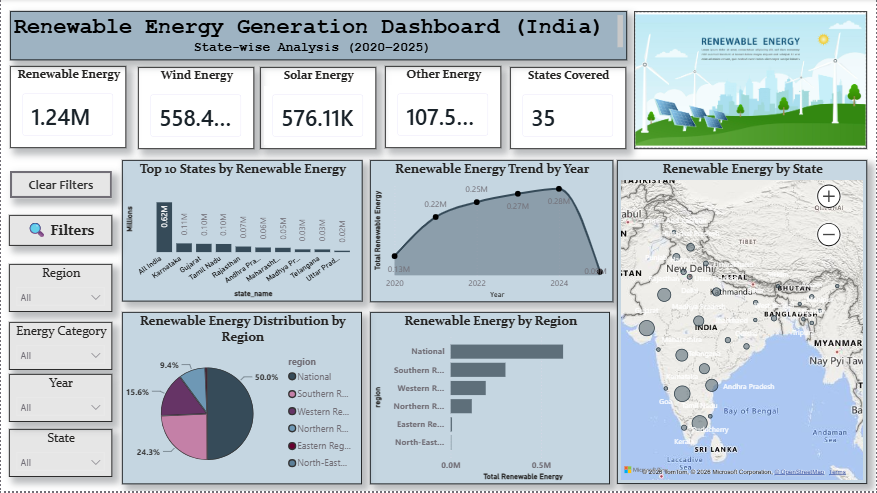

What the dashboard file says about the page in this screenshot:
{"tool":"powerbi","page":{"name":"Executive Dashboard","canvas":[1280,720],"ordinal":0},"visuals":[{"type":"textbox","box":[13.2,17.6,902.9,71.7],"z":0},{"type":"cardVisual","title":"Renewable Energy","fields":{"Data":["Measure.Total Renewable Energy"]},"box":[13.2,98,169.8,120],"z":1000},{"type":"cardVisual","title":"Wind Energy","fields":{"Data":["Measure.Total Wind Energy"]},"box":[200.5,99.5,169.8,120],"z":2000},{"type":"cardVisual","title":"Solar Energy","fields":{"Data":["Measure.Total Solar Energy"]},"box":[379,99.5,169.8,120],"z":3000},{"type":"cardVisual","title":"Other Energy","fields":{"Data":["Measure.Total Other Renewable Energy"]},"box":[562,98,169.8,120],"z":4000},{"type":"cardVisual","title":"States Covered","fields":{"Data":["Measure.Total States"]},"box":[744.9,99.5,169.8,120],"z":5000},{"type":"slicer","title":"Region","fields":{"Values":["Dim_Region.region"]},"box":[11.7,387.8,150.7,70.2],"z":7000},{"type":"slicer","title":"State","fields":{"Values":["Dim_State.state_name"]},"box":[11.7,629.3,150.7,70.2],"z":8000},{"type":"slicer","title":"Energy Category","fields":{"Values":["RenewableData.Energy Category"]},"box":[11.7,472.7,150.7,70.2],"z":9000},{"type":"slicer","title":"Year","fields":{"Values":["Dim_Year.Year"]},"box":[11.7,548.8,150.7,70.2],"z":10000},{"type":"clusteredColumnChart","title":"Top 10 States by Renewable Energy","fields":{"Category":["Dim_State.state_name"],"Y":["Measure.Total Renewable Energy"]},"box":[177.2,236.3,351.5,206.8],"z":11000},{"type":"lineChart","title":"Renewable Energy Trend by Year","fields":{"Category":["Dim_Year.Year"],"Y":["Measure.Total Renewable Energy"]},"box":[540,235.6,355.6,207.8],"z":12000},{"type":"clusteredBarChart","title":"Renewable Energy by Region","fields":{"Category":["Dim_Region.region"],"Y":["Measure.Total Renewable Energy"]},"box":[540,458,351.2,251.7],"z":13000},{"type":"pieChart","title":"Regional Share of Renewable Energy","fields":{"Y":["Sum(RenewableData.total_renewable_energy)"],"Category":["RenewableData.region"]},"box":[177.1,458,351.2,251.7],"z":14000},{"type":"textbox","box":[11.7,316.1,150.7,45.4],"z":15000},{"type":"map","title":"Renewable Energy by State","fields":{"Category":["Dim_State.state_name"],"Size":["Measure.Total Renewable Energy"]},"box":[901.5,235.6,365.9,474.1],"z":16000},{"type":"actionButton","title":"🧹 Clear Filters","box":[13.2,251.7,149.3,39.5],"z":17000},{"type":"image","box":[926.3,17.6,341,202],"z":17001}]}

Visuals, with their boxes in screenshot pixels (x1, y1, x2, y2), scaled from the page's 1280x720 canvas onto the 877x493 screenshot:
textbox: 9/12/628/61
"Renewable Energy" cardVisual: 9/67/125/149
"Wind Energy" cardVisual: 137/68/254/150
"Solar Energy" cardVisual: 260/68/376/150
"Other Energy" cardVisual: 385/67/501/149
"States Covered" cardVisual: 510/68/627/150
"Region" slicer: 8/266/111/314
"State" slicer: 8/431/111/479
"Energy Category" slicer: 8/324/111/372
"Year" slicer: 8/376/111/424
"Top 10 States by Renewable Energy" clusteredColumnChart: 121/162/362/303
"Renewable Energy Trend by Year" lineChart: 370/161/614/304
"Renewable Energy by Region" clusteredBarChart: 370/314/611/486
"Regional Share of Renewable Energy" pieChart: 121/314/362/486
textbox: 8/216/111/248
"Renewable Energy by State" map: 618/161/868/486
"🧹 Clear Filters" actionButton: 9/172/111/199
image: 635/12/868/150
